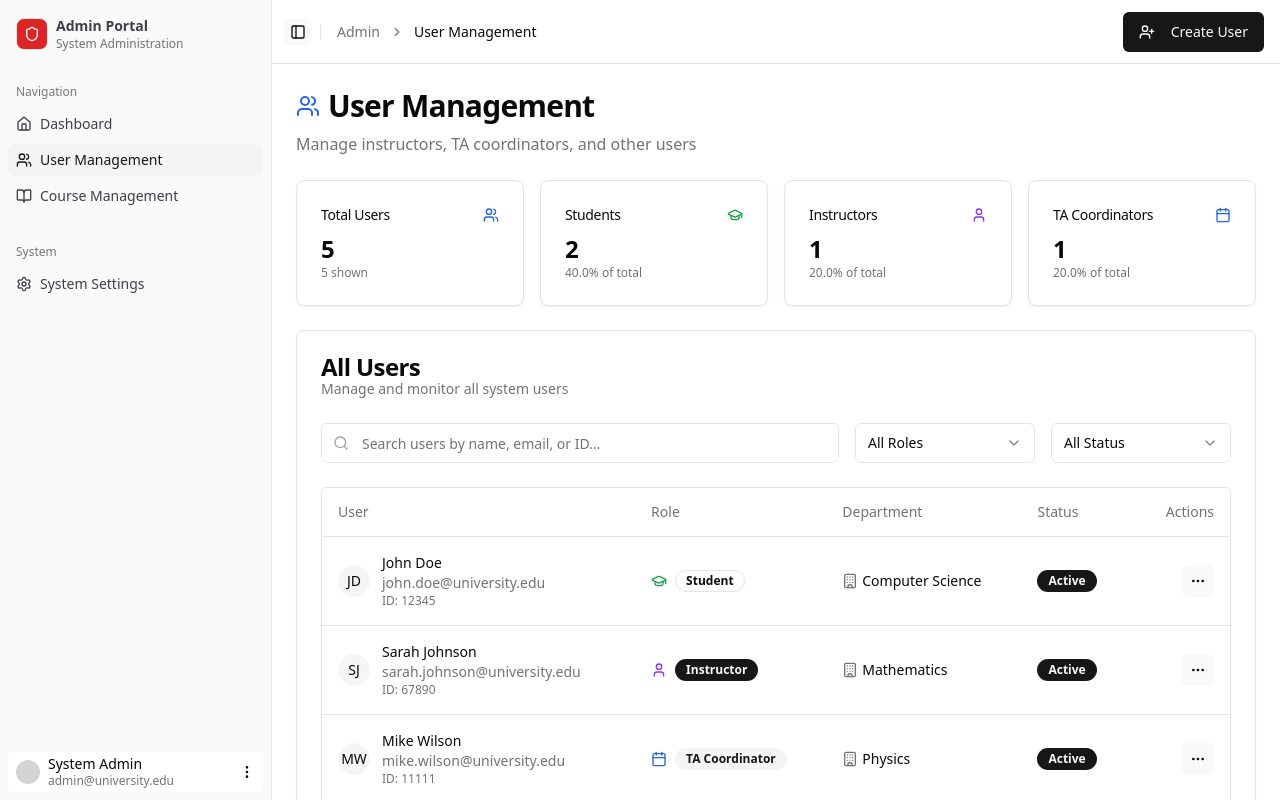
Test case: UserManagement › Search and Filtering › filters users based on search query
The width and height of the screenshot is (1280, 800).
Check: the text "John Doe" is shown, box [382,552,442,572]
Type "Sarah" into the field with placeholder "Search users by name, email, or ID..." at (580, 443), box [321,423,839,463]
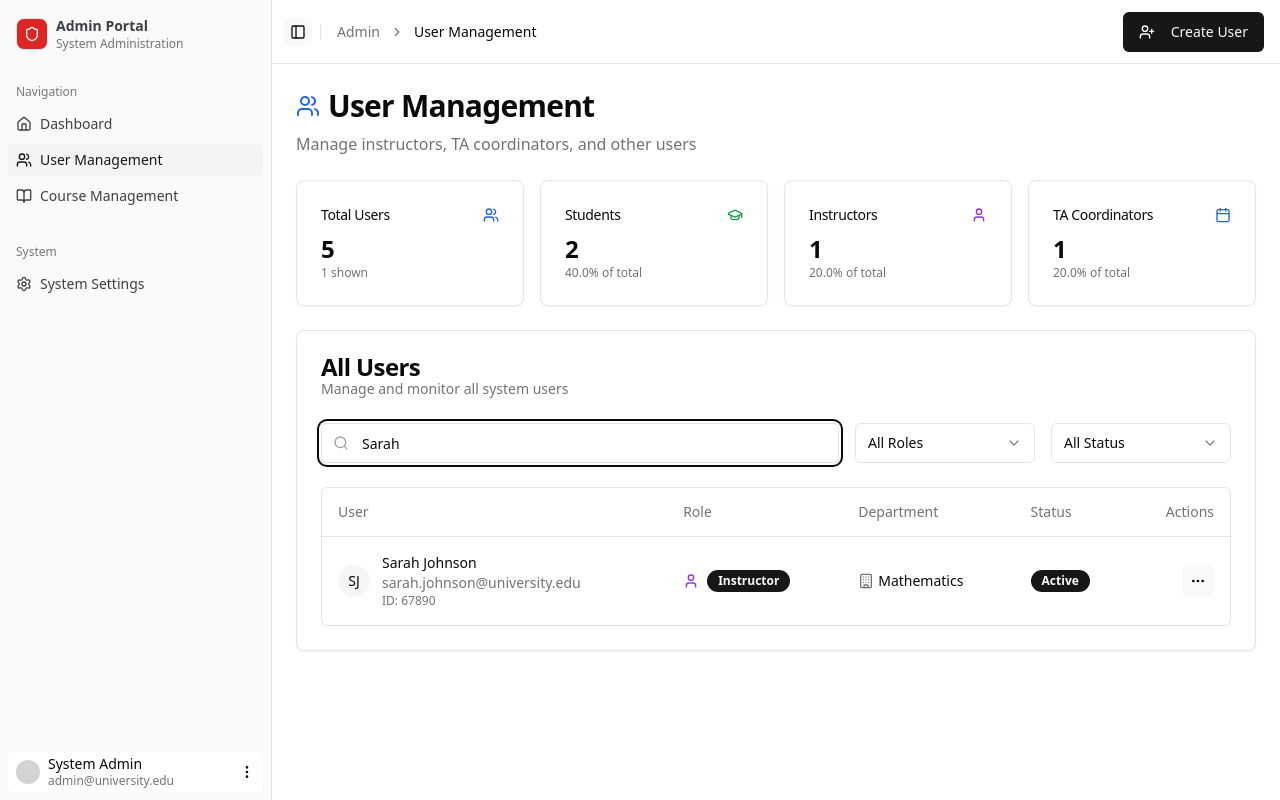
Check: the text "Sarah Johnson" is shown, box [382,552,477,572]
Check: the text "John Doe" is gone
